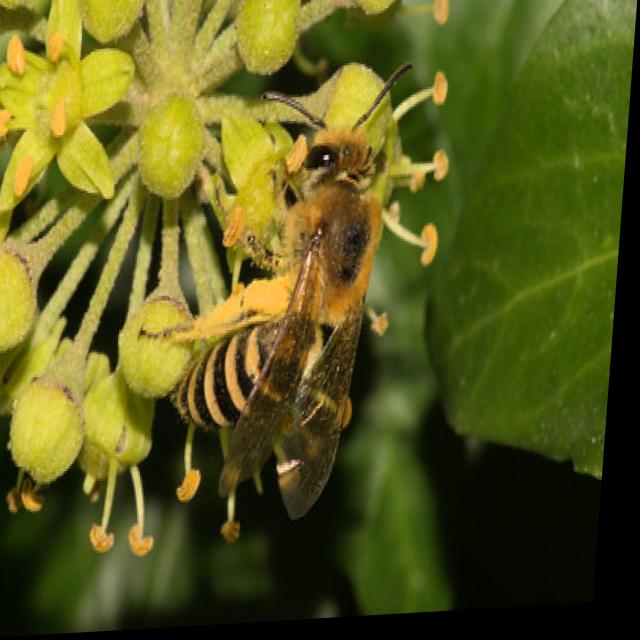Abeille: (141, 82, 453, 552)
